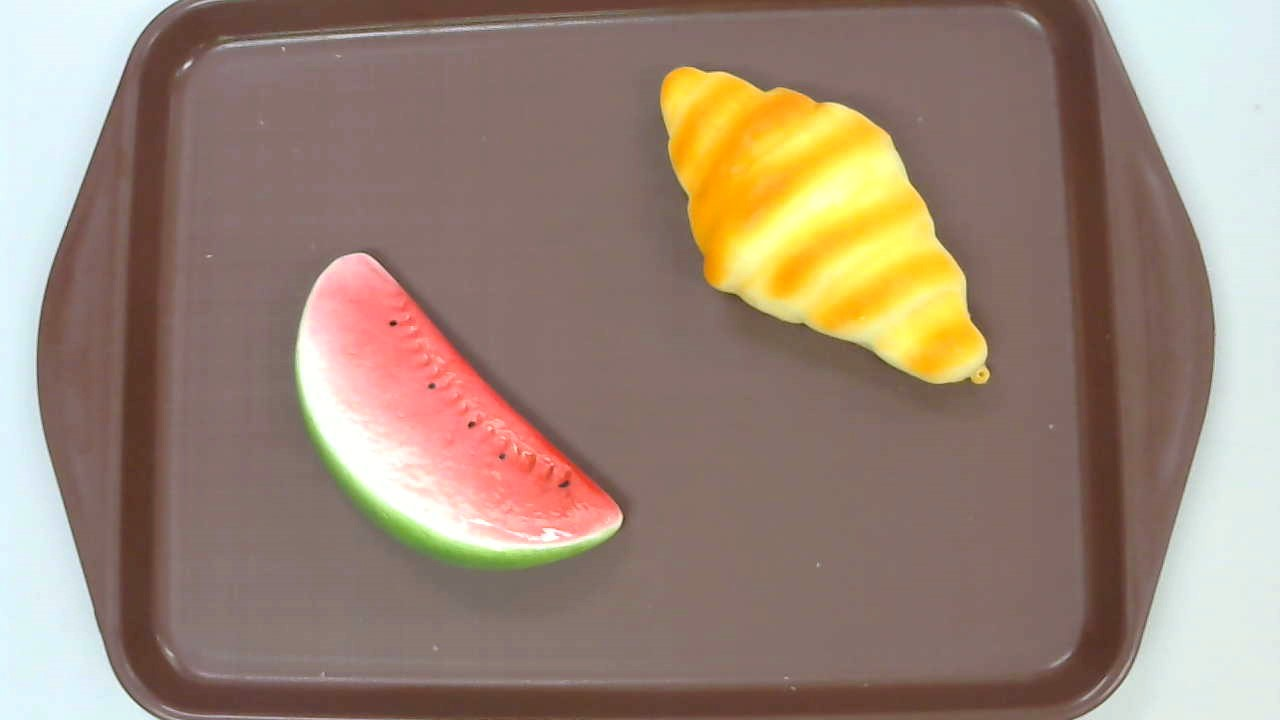croissant: (659, 66, 990, 385)
water melon: (293, 252, 625, 573)
